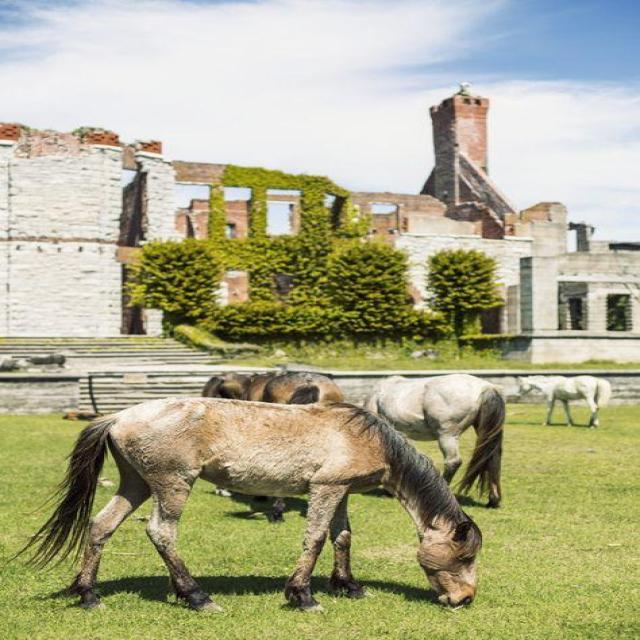horse: (4, 395, 483, 615), (200, 369, 344, 522), (361, 372, 506, 508), (513, 373, 612, 428)
